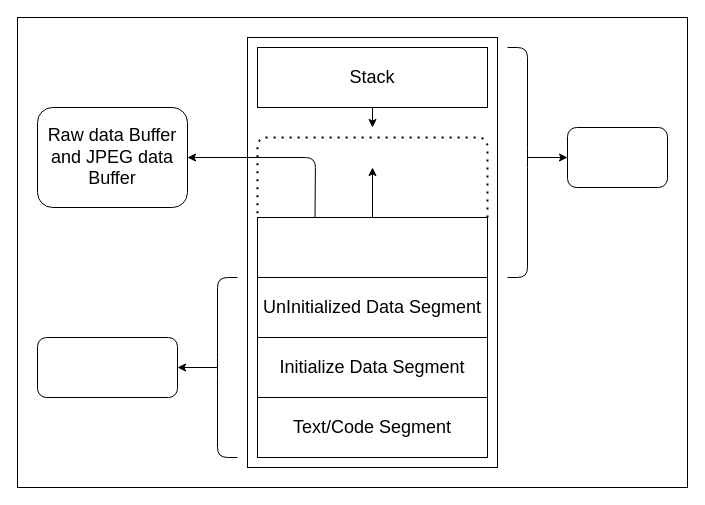
This 705x505 diagram has some shape labels left out. Each missing label, with the box of its shape:
Dynamic Memory: (566, 126, 668, 188)
Heap: (256, 216, 488, 278)
Static Memory: (36, 336, 178, 398)
